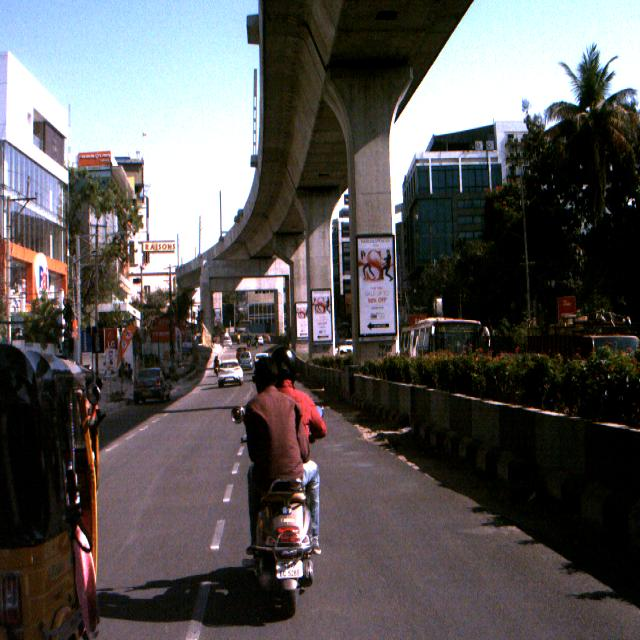auto ahead at: (0, 340, 108, 640)
motorcycle ahead at: (240, 474, 330, 614)
